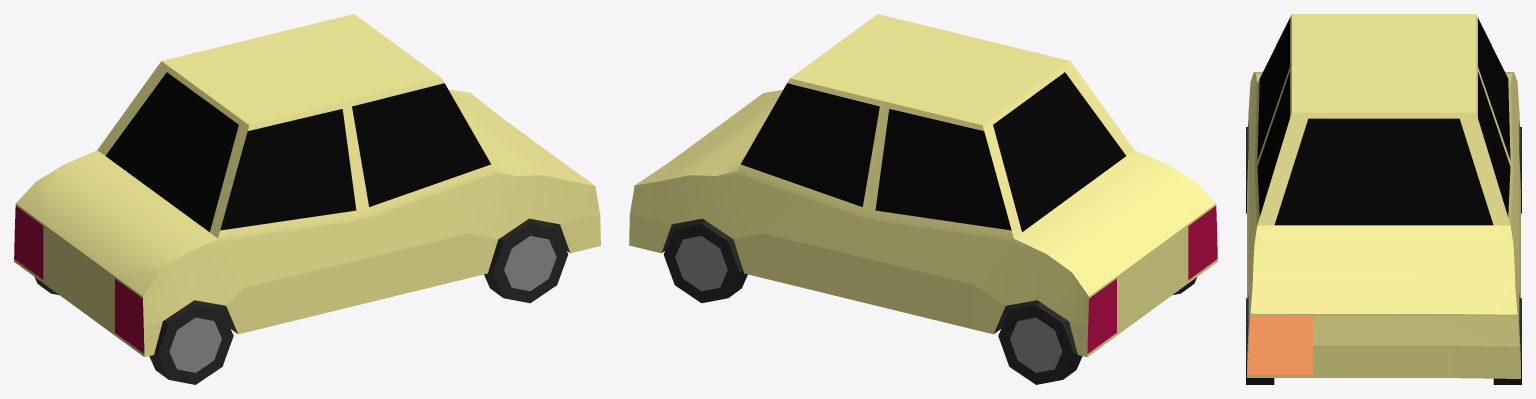
The model's file is Car_03.fbx.
3 renders of one model, left to right at view 1: azimuth 30°, elevation 25°; view 2: azimuth 150°, elevation 25°; view 3: azimuth 270°, elevation 25°, orthographic. The views are drawn at different scales.
Visible parts, largest first — view 1: Car_03; view 2: Car_03; view 3: Car_03.
Boxes of the visible parts, x1,y1,x2,y2 form: Car_03: (14,14,600,384); Car_03: (629,14,1217,384); Car_03: (1246,14,1521,384).
Bounding box in the file's own units: 304 × 143 × 151.
Materials: 2 (1 with a texture image).
